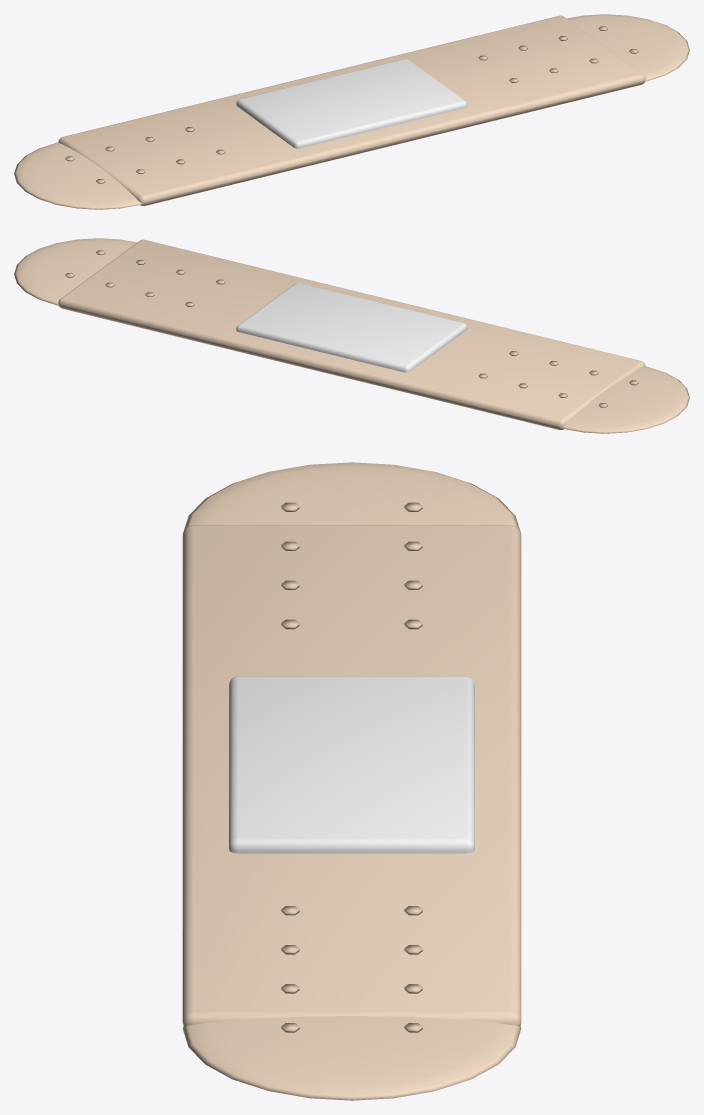
File: SM_Plaster.glb
3 renders of one model, top to bottom at view 1: azimuth 30°, elevation 25°; view 2: azimuth 150°, elevation 25°; view 3: azimuth 270°, elevation 25°, orthographic. The views are drawn at different scales.
Visible parts, largest first — view 1: SM_Plaster; view 2: SM_Plaster; view 3: SM_Plaster.
Part boxes in pixels (box(x1,y1,x2,y2)): SM_Plaster: box(14, 14, 689, 209); SM_Plaster: box(14, 238, 689, 433); SM_Plaster: box(182, 462, 521, 1100).
Size of the model in its own units: 0.098 by 0.00247 by 0.022.
